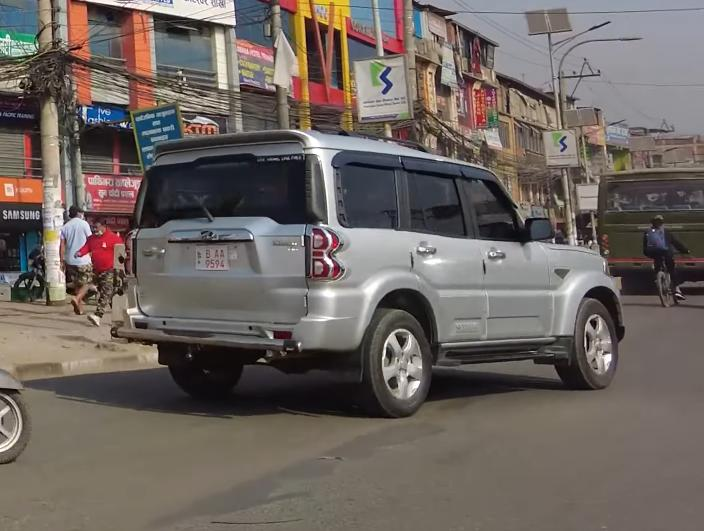SUV: (120, 126, 630, 424)
